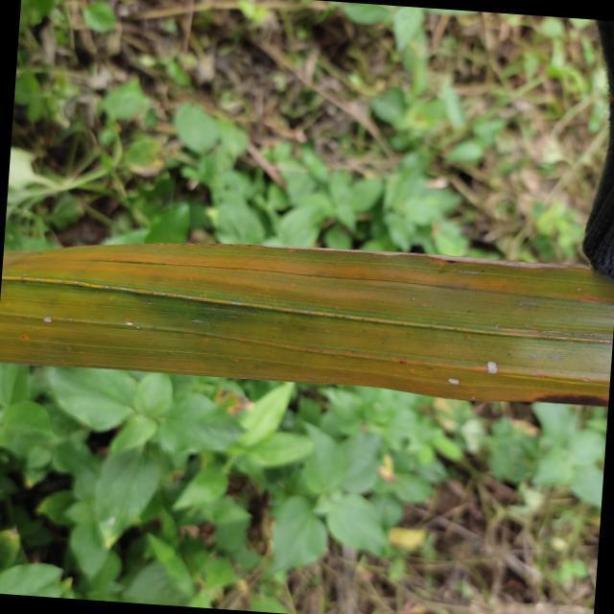Megnesium: (0, 235, 614, 406)
